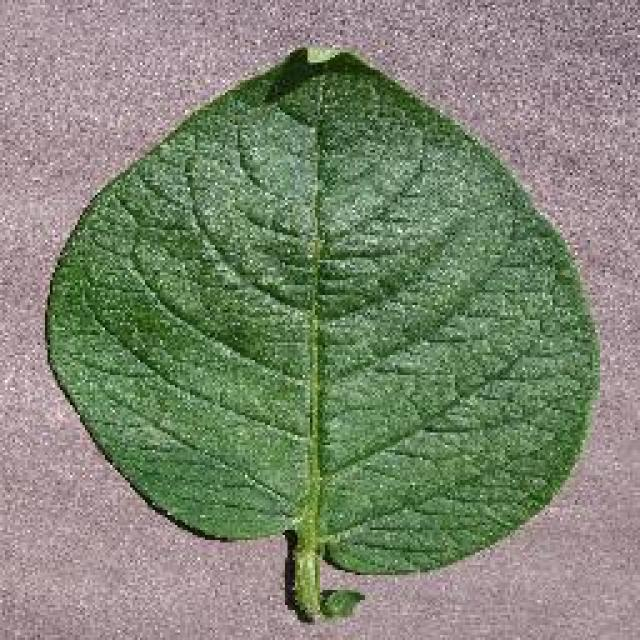Potato: (42, 42, 602, 622)
